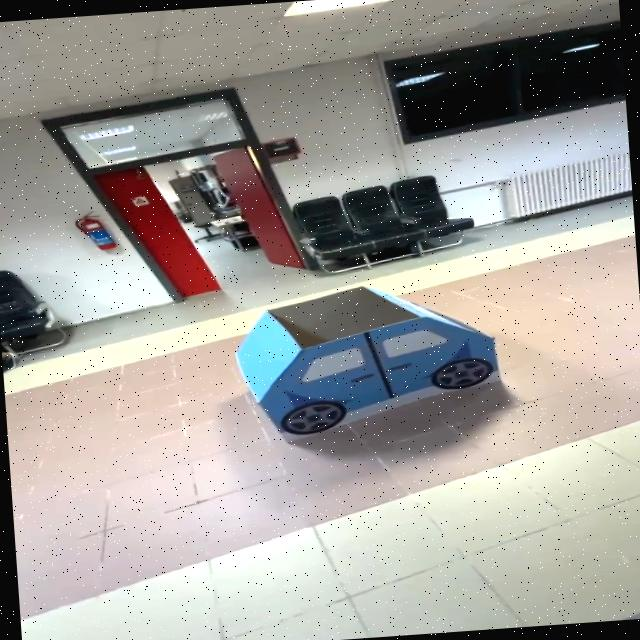blue_car: (211, 263, 537, 455)
